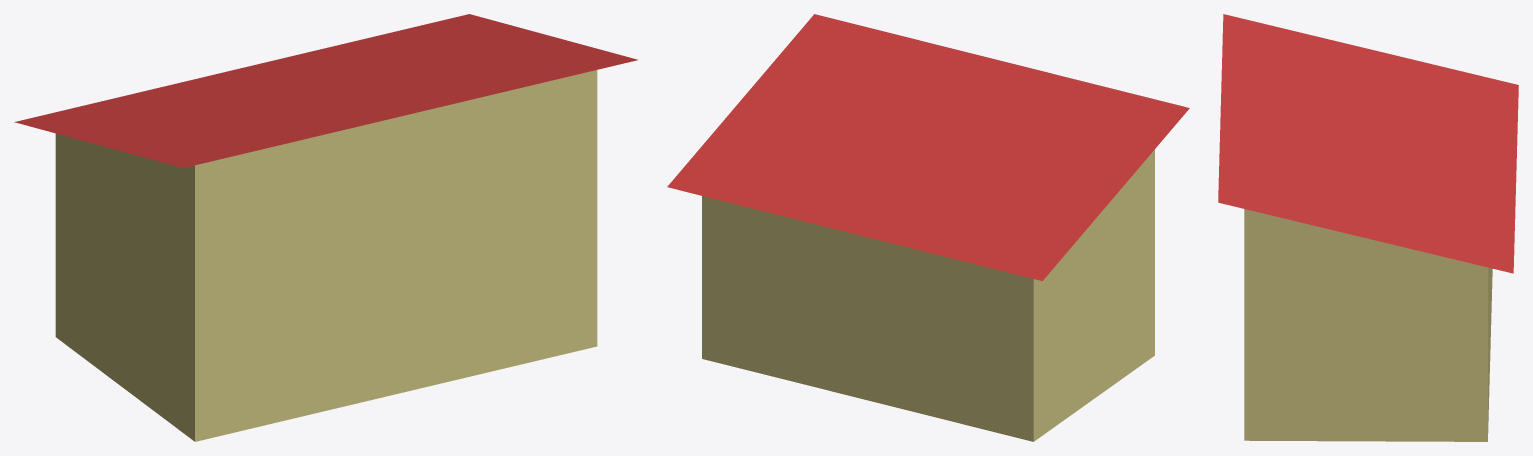
The picture shows the model from 3 angles, left to right: view 1: azimuth 30°, elevation 25°; view 2: azimuth 150°, elevation 25°; view 3: azimuth 270°, elevation 25°; orthographic projection. The views are drawn at different scales.
Size of the model in its own units: 12.97 by 8.67 by 7.92.
